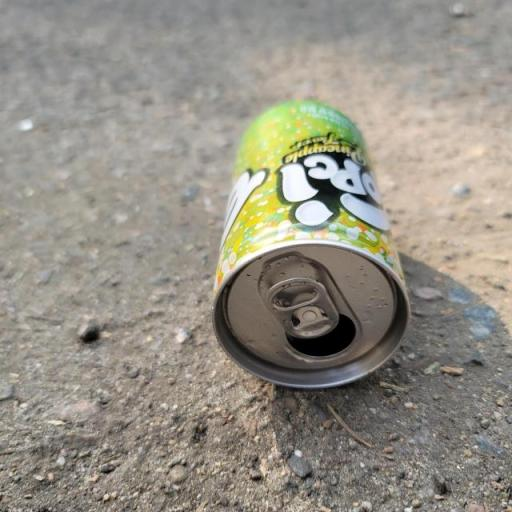metal: (192, 50, 472, 484)
